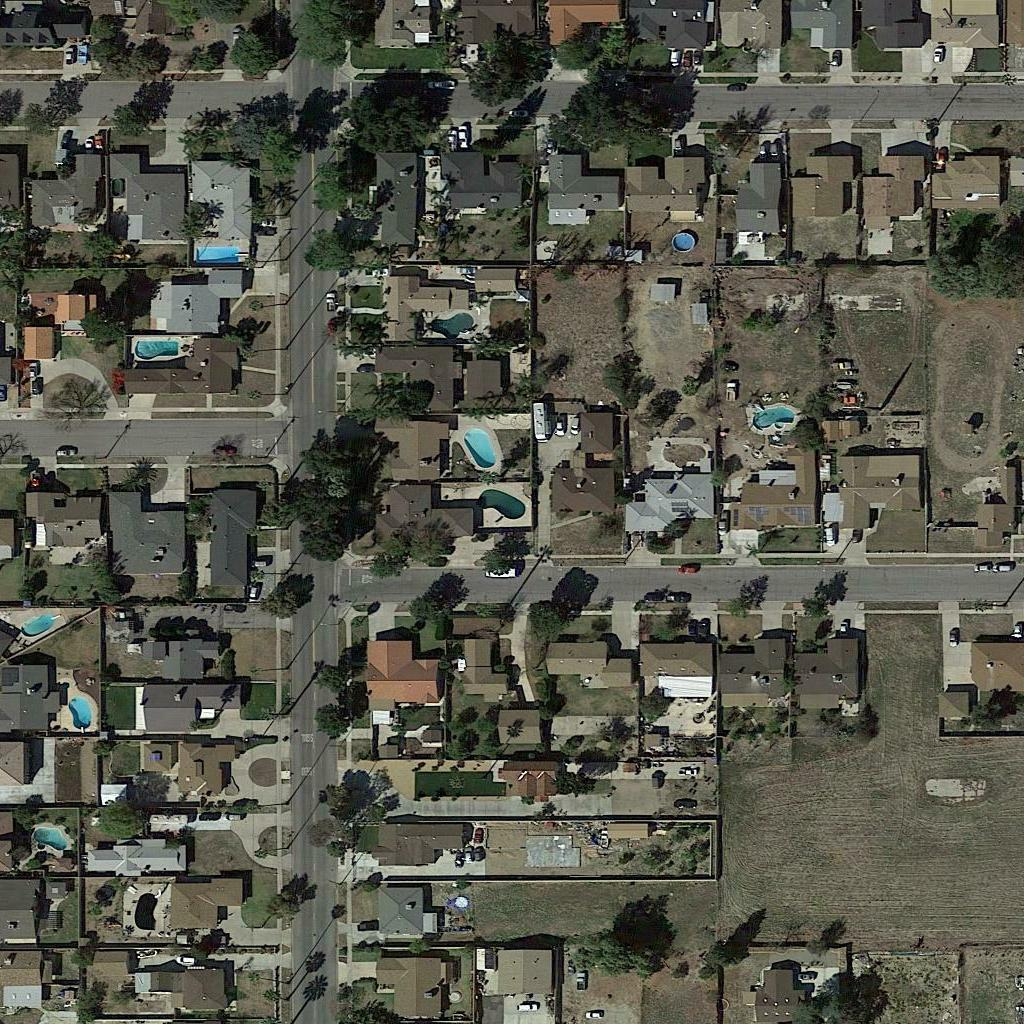ship: (137, 949, 158, 958)
